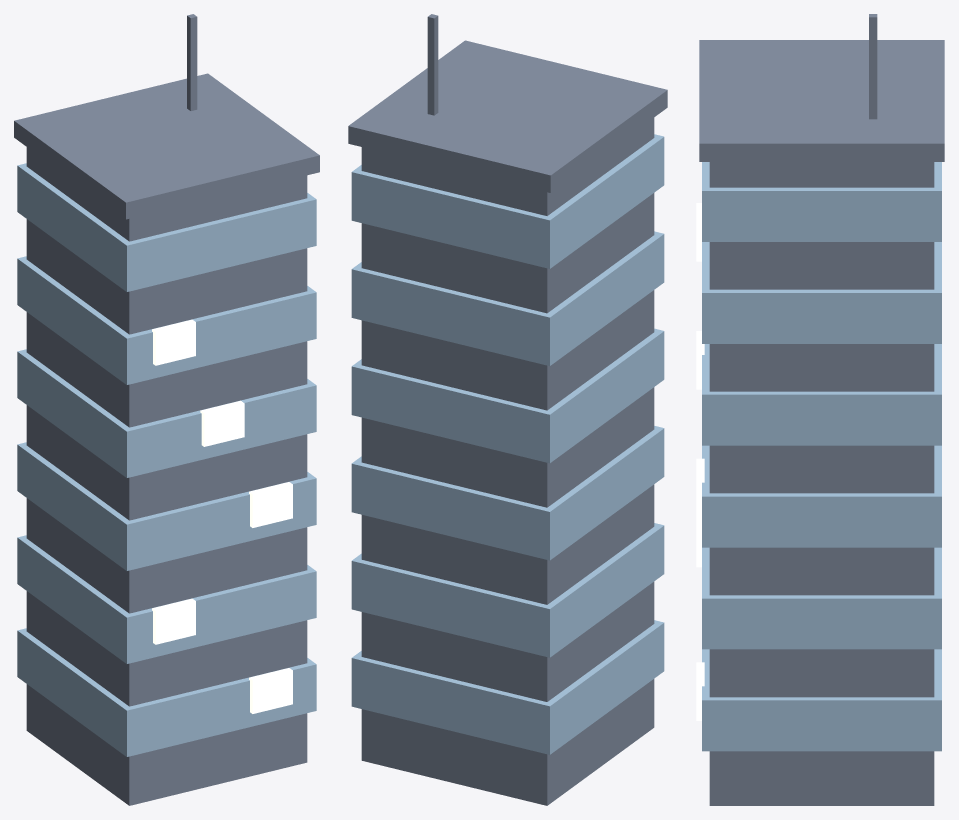
File: lp_buero.glb
The picture shows the model from 3 angles, left to right: view 1: azimuth 30°, elevation 25°; view 2: azimuth 150°, elevation 25°; view 3: azimuth 270°, elevation 25°; orthographic projection. The views are drawn at different scales.
Visible parts, largest first — view 1: buero; view 2: buero; view 3: buero.
Part boxes in pixels (bbox=[...]): buero: bbox=[14, 14, 319, 805]; buero: bbox=[348, 14, 667, 805]; buero: bbox=[696, 14, 944, 805].
Size of the model in its own units: 2.4 by 8.3 by 2.43.
